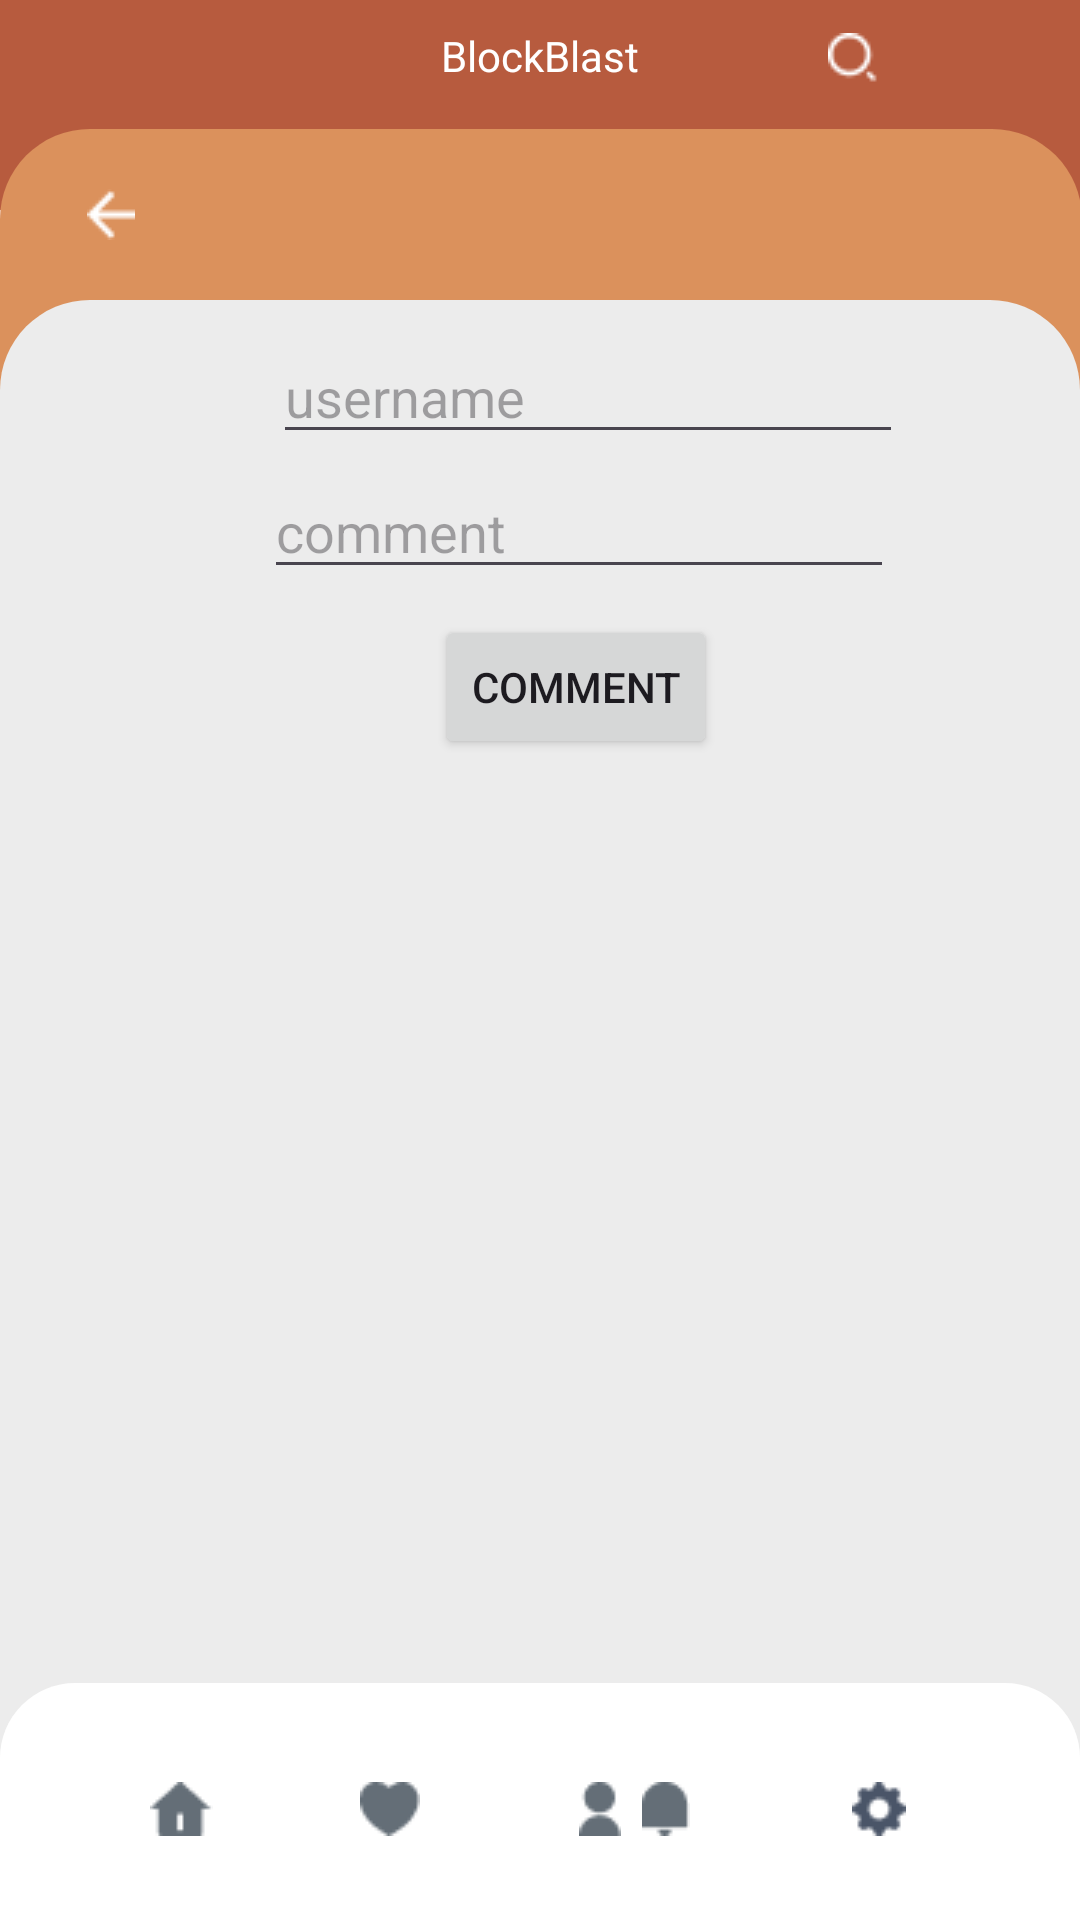

Screen size 1080px×1920px. Icon name, then its center in pixels as [x,y]:
back: [111,215]
heart: [390,1809]
home: [180,1809]
notification: [665,1809]
profile: [600,1809]
search: [852,57]
setting: [879,1809]
